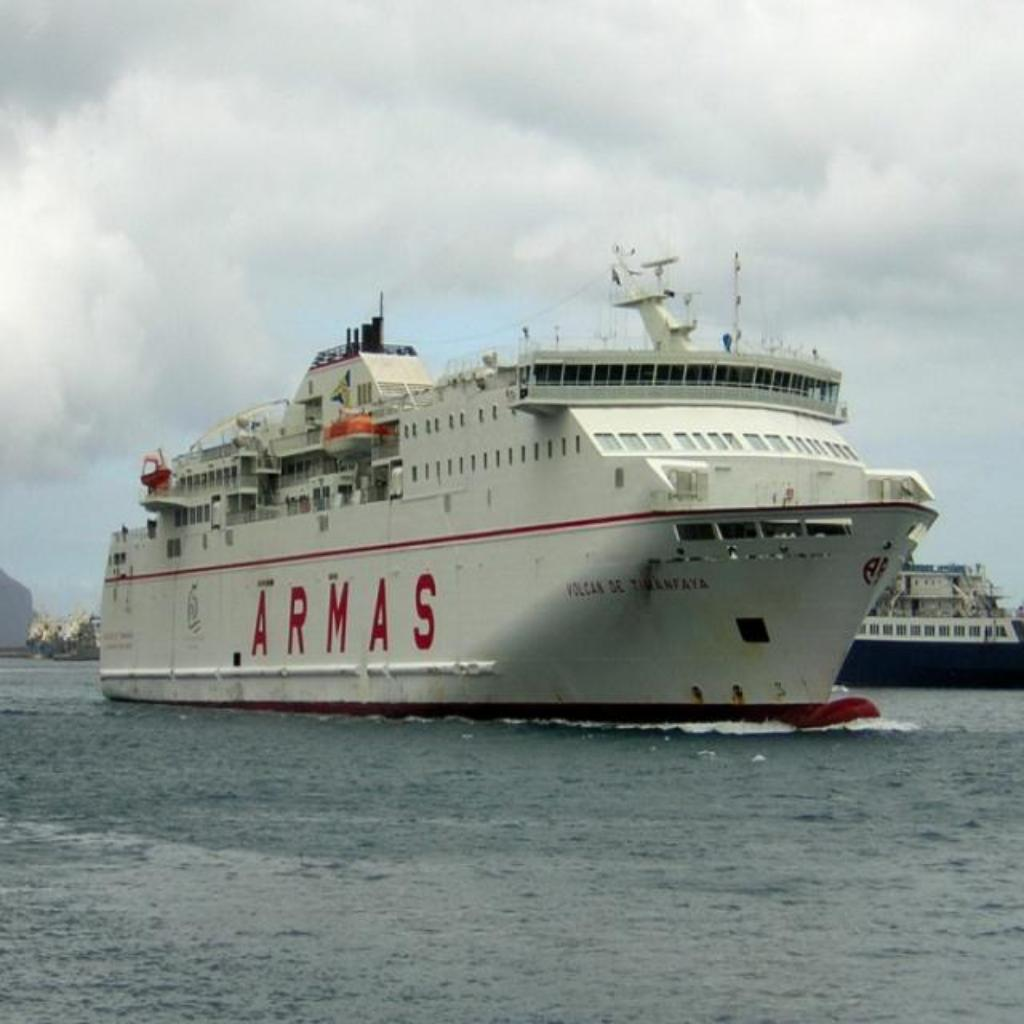PassengerShip: (91, 232, 947, 736)
